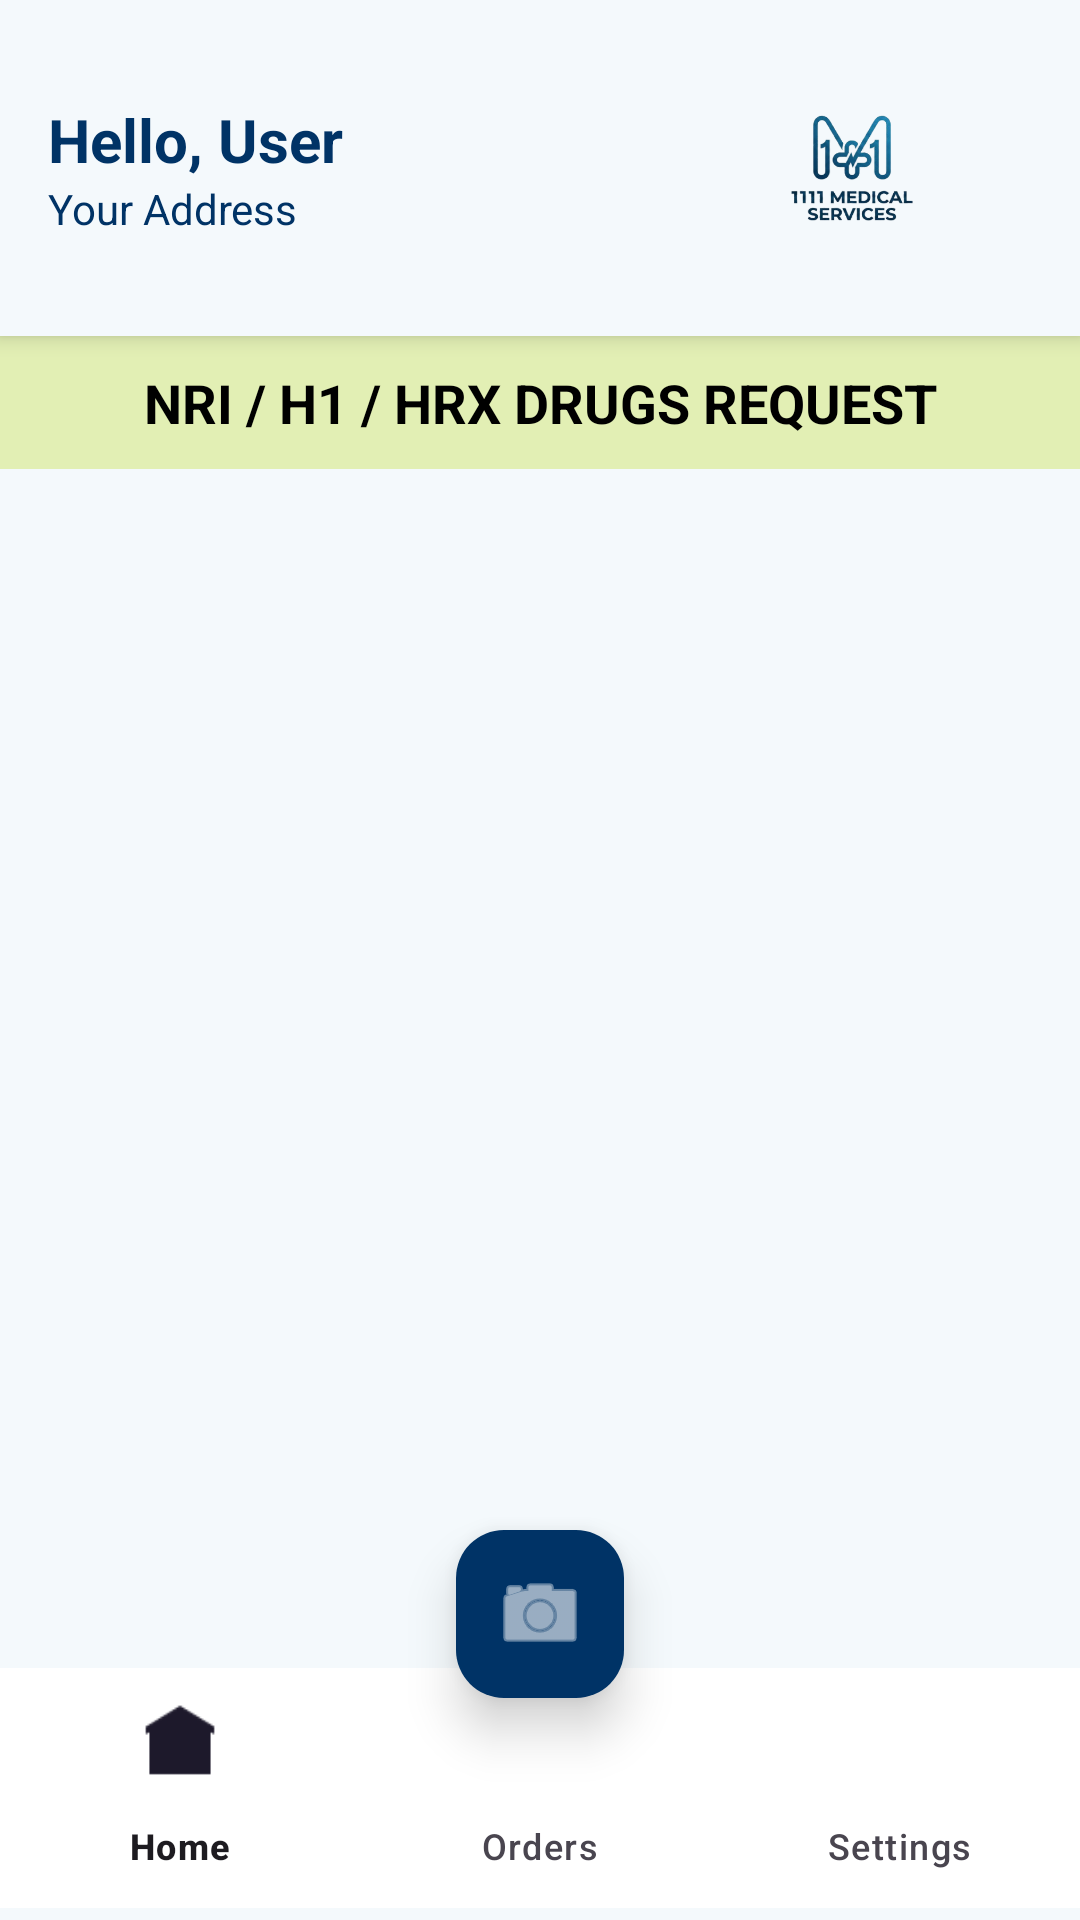

Where icons sit on this 1080w x 1920h app screen, as BBox(x1, y1, x2, y2):
Camera: BBox(456, 1530, 624, 1698)
